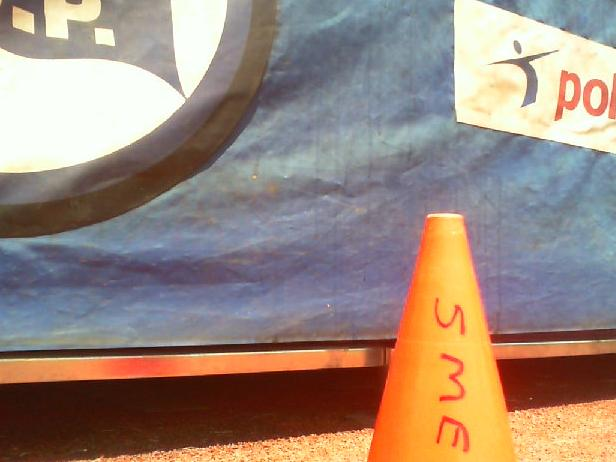0 cone: (367, 213, 517, 462)
